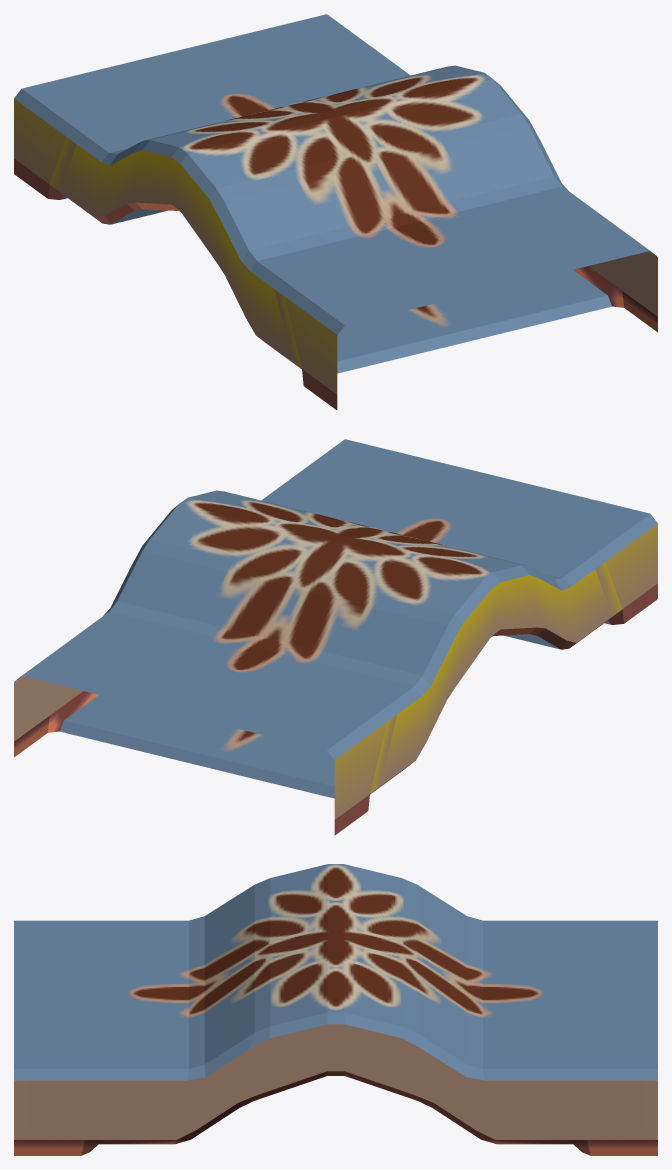
The model's file is RoofTrack1.fbx.
3 renders of one model, top to bottom at view 1: azimuth 30°, elevation 25°; view 2: azimuth 150°, elevation 25°; view 3: azimuth 270°, elevation 25°, orthographic.
Visible parts, largest first — view 1: StructWall; view 2: StructWall; view 3: StructWall.
Boxes of the visible parts, x1,y1,x2,y2 form: StructWall: (14,14,657,410); StructWall: (14,439,657,835); StructWall: (14,864,657,1155).
Size of the model in its own units: 642 by 269 by 1123.
